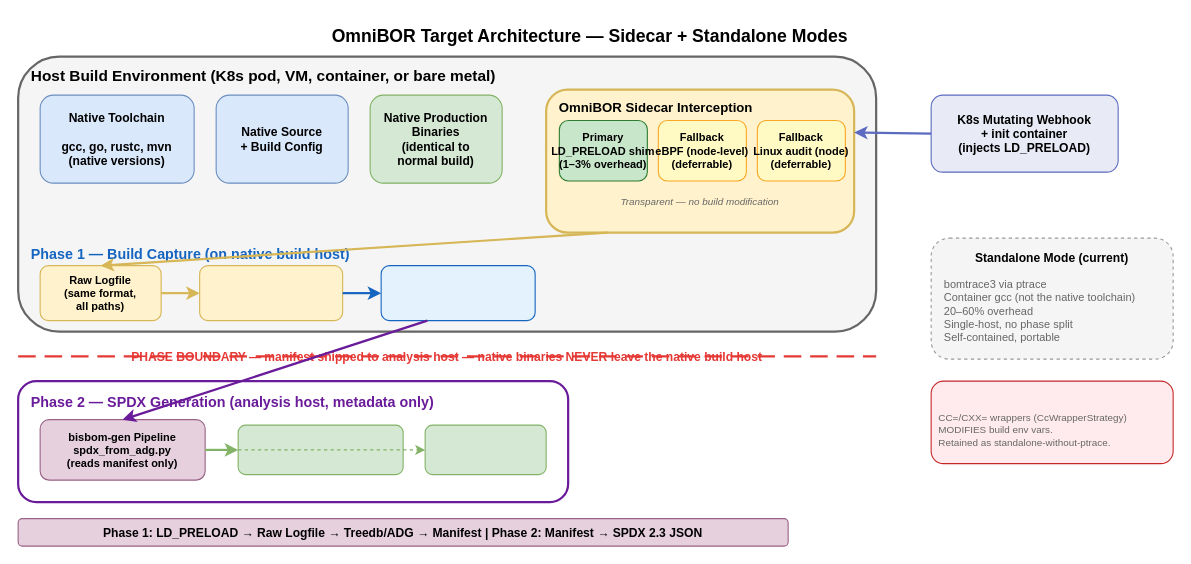
Image size: 1191x564. Some labels were removed from this diagram. Here are the shapes that lost their labels. From the top down, the box of each, then its label:
(199, 265, 343, 321): bomsh_create_bom.py ADG + Treedb
(380, 265, 535, 321): phase1_manifest.json (treedb + versions + binary hashes)
(930, 380, 1173, 464): NOT Sidecar
(237, 424, 403, 475): SPDX 2.3 JSON SBOM
(424, 424, 546, 475): D3.js HTML Viz
